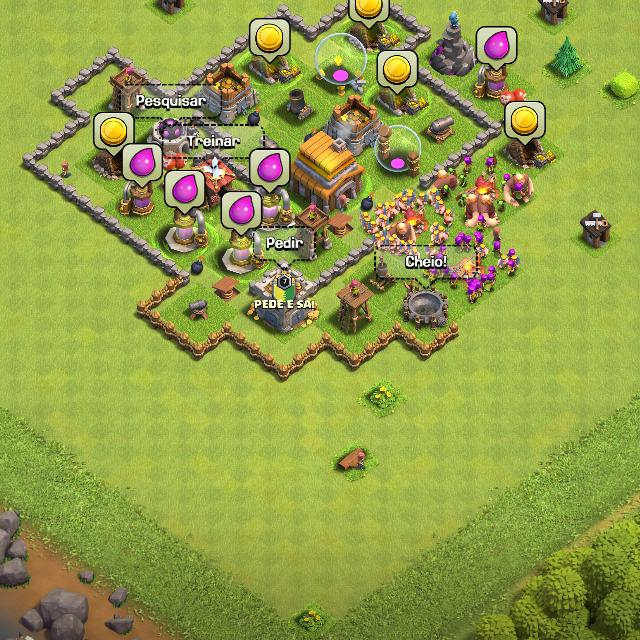Elixir: (476, 27, 518, 70), (250, 149, 290, 193), (166, 169, 204, 215), (123, 144, 162, 187), (223, 192, 262, 234)
coin: (506, 102, 547, 148), (248, 18, 290, 62), (379, 50, 418, 96), (94, 112, 134, 156), (348, 0, 389, 30)
